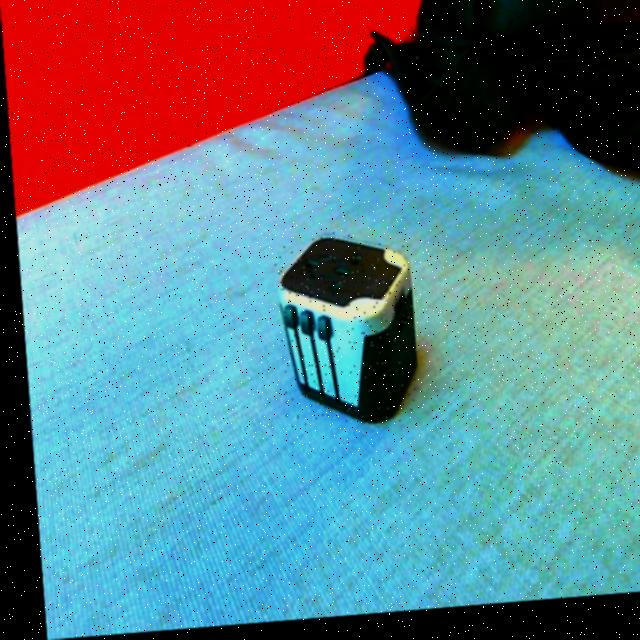adapter: (269, 233, 414, 435)
